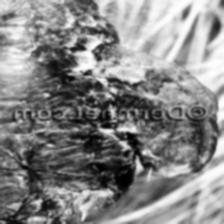Potentially Malignant Skin Tumors: (113, 44, 222, 178), (0, 140, 99, 224), (71, 33, 102, 70)
